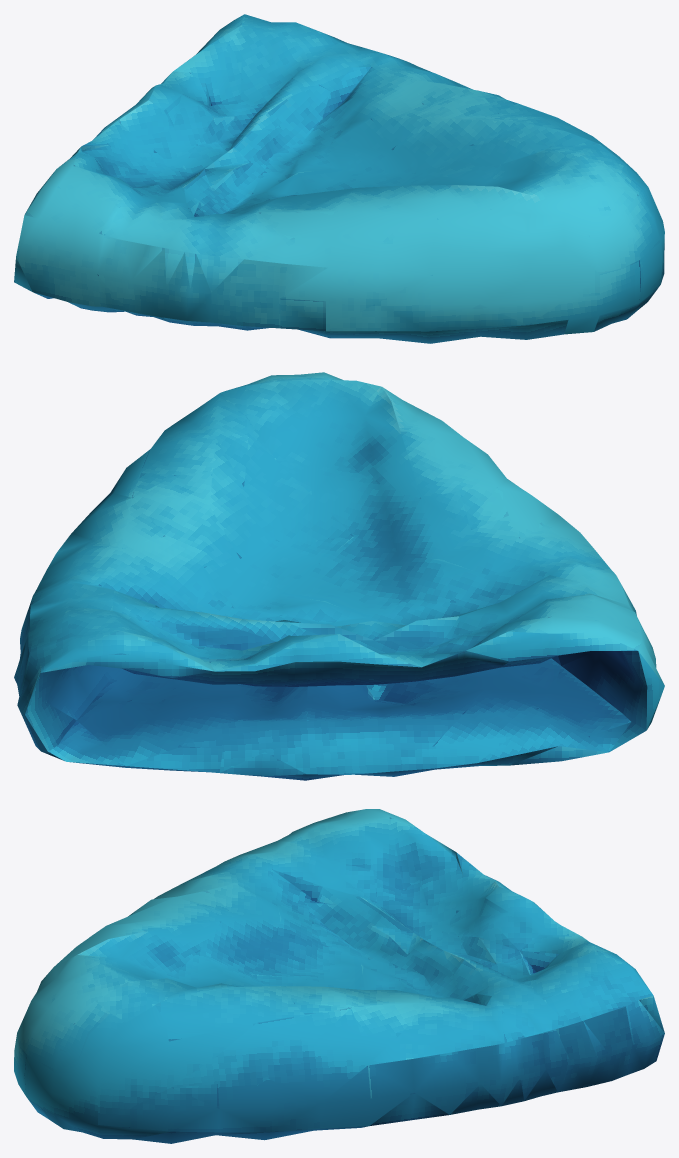
File: wear_beanie2.glb
3 views of the same model, one above another, from view 1: azimuth 30°, elevation 25°; view 2: azimuth 150°, elevation 25°; view 3: azimuth 270°, elevation 25° (orthographic). The views are drawn at different scales.
Parts seen in each view (by area): view 1: mesh; view 2: mesh; view 3: mesh.
Part boxes in pixels (left/top/right/bottom): mesh: left=14, top=14, right=664, bottom=343; mesh: left=14, top=372, right=664, bottom=780; mesh: left=14, top=809, right=664, bottom=1143.
Size of the model in its own units: 0.666 by 0.16 by 0.7099.
Materials: 1 (1 with a texture image).
